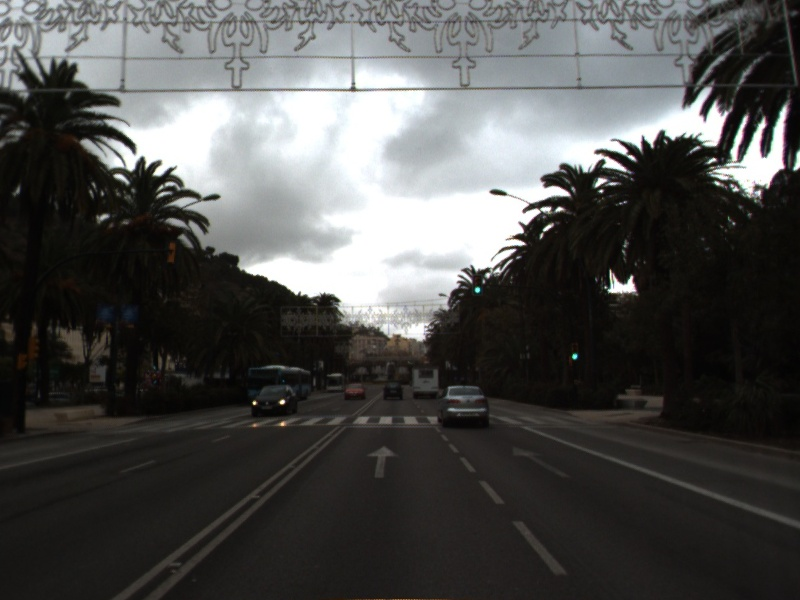STRAIGHT: (510, 444, 573, 481), (364, 443, 402, 480)
